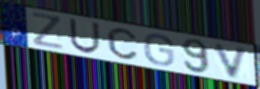9: (180, 37, 212, 75)
C: (105, 26, 139, 61)
G: (142, 33, 176, 67)
U: (68, 17, 101, 54)
V: (212, 42, 251, 81)
Z: (29, 11, 66, 51)
